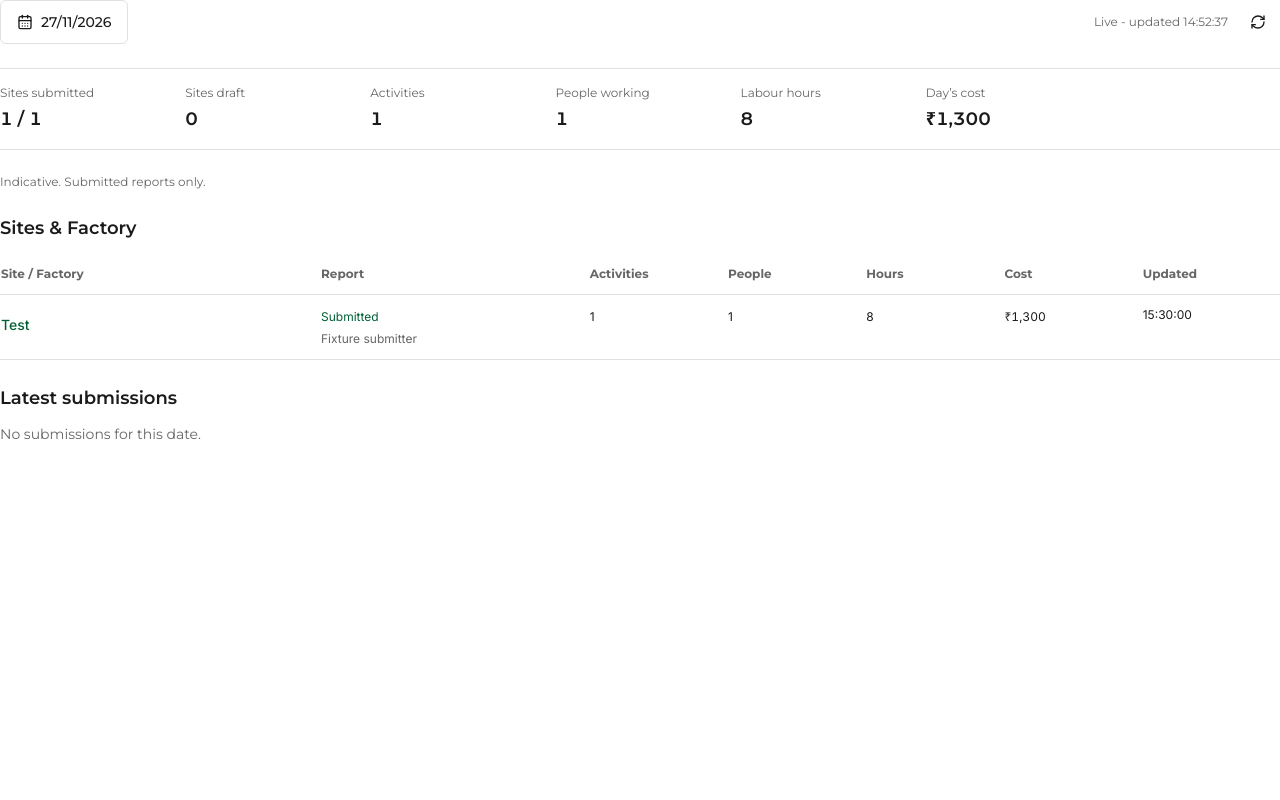
Test: Daily read behavior › opens a read-only report with no write requests
Click the button "Test" at (15, 324), box [1,303,312,347]
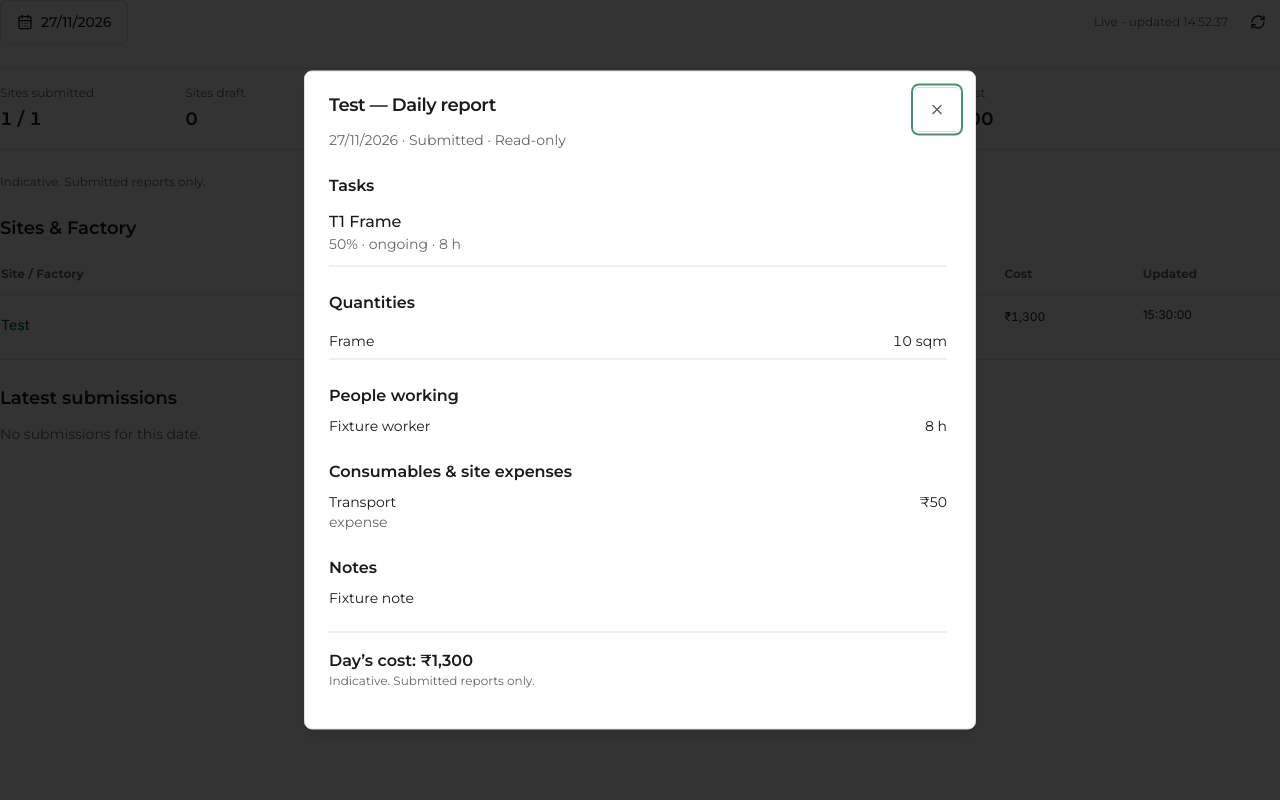
Now the dialog is shown, box [304,70,976,730]
Now the text "Fixture note" is shown, box [329,588,414,606]
